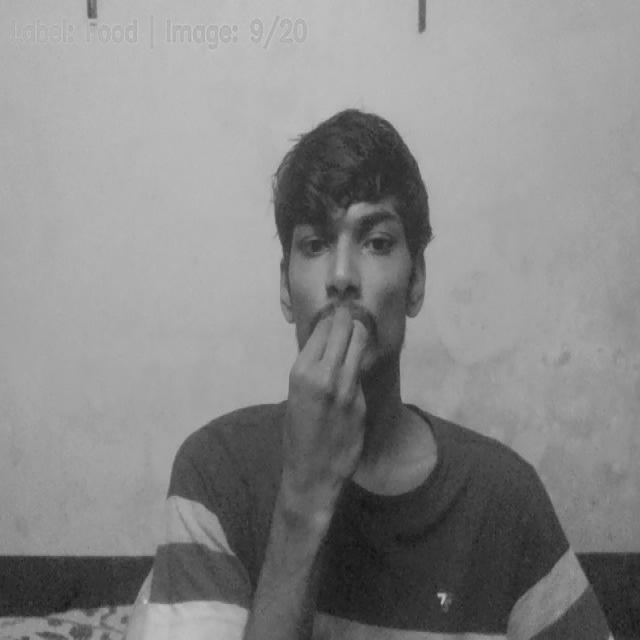Food: (285, 308, 372, 479)
